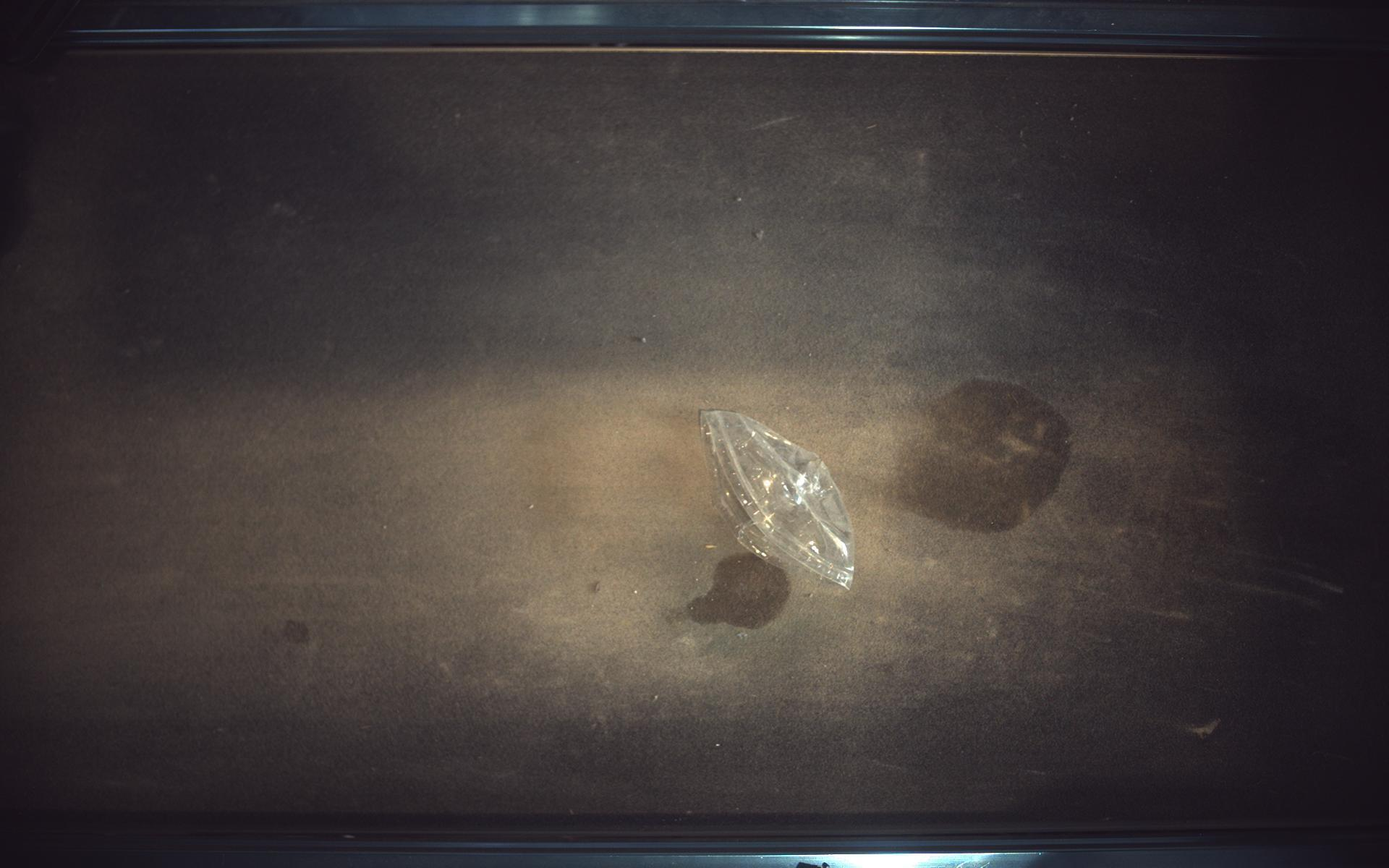general_w: (702, 410, 856, 590)
